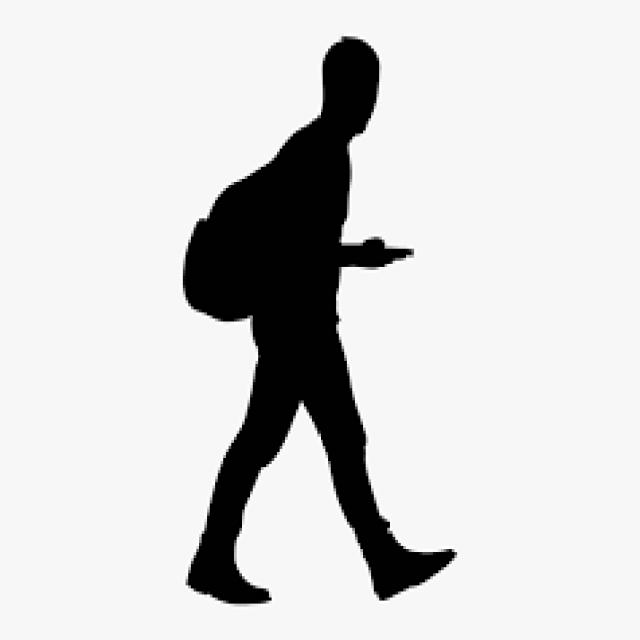Person: (182, 36, 458, 602)
